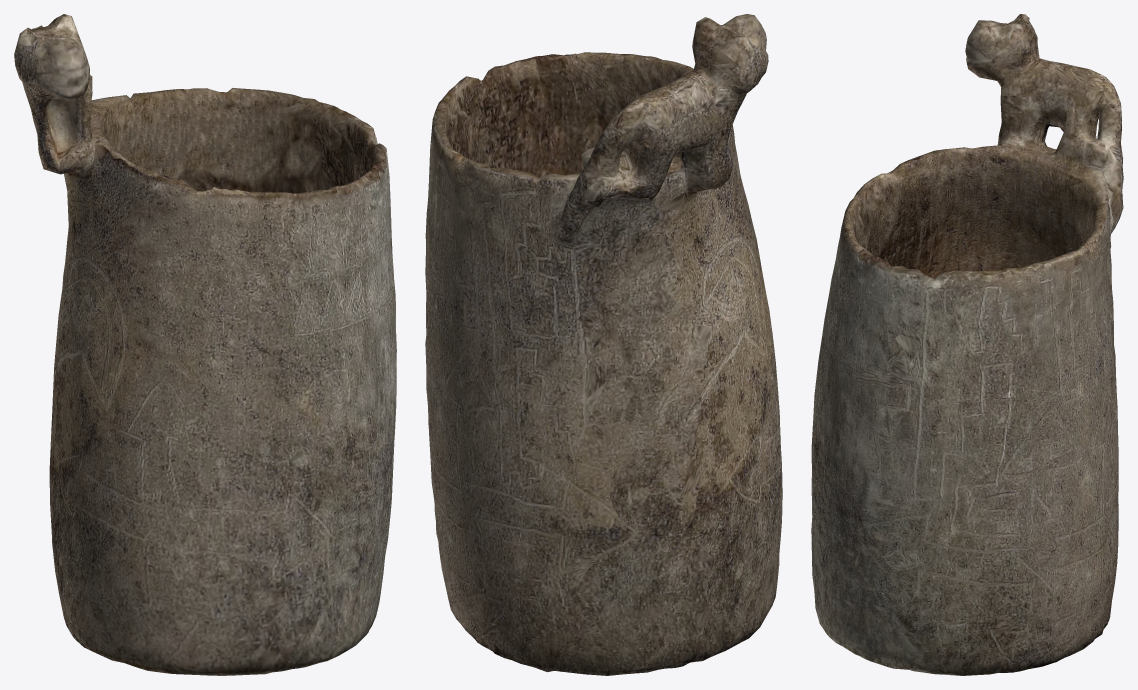
3 renders of one model, left to right at view 1: azimuth 30°, elevation 25°; view 2: azimuth 150°, elevation 25°; view 3: azimuth 270°, elevation 25°, orthographic. The views are drawn at different scales.
Visible parts, largest first — view 1: MA3173; view 2: MA3173; view 3: MA3173.
Boxes of the visible parts, x1,y1,x2,y2 form: MA3173: (14,14,396,675); MA3173: (425,14,782,675); MA3173: (811,14,1123,675).
Size of the model in its own units: 6.2 by 11.34 by 5.8.
1 material, 1 textured.
